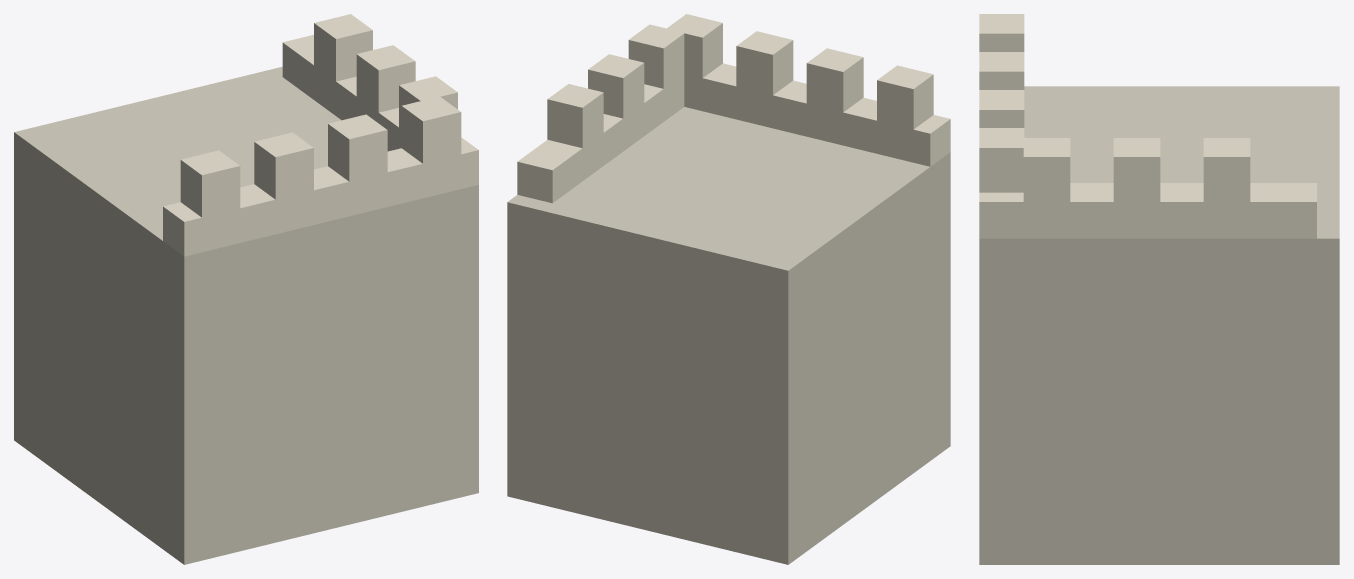
Rendered from curtain-corner.glb.
3 renders of one model, left to right at view 1: azimuth 30°, elevation 25°; view 2: azimuth 150°, elevation 25°; view 3: azimuth 270°, elevation 25°, orthographic. The views are drawn at different scales.
Visible parts, largest first — view 1: curtain-corner; view 2: curtain-corner; view 3: curtain-corner.
Boxes of the visible parts, x1=… form: curtain-corner: x1=14, y1=14, x2=478, y2=564; curtain-corner: x1=507, y1=14, x2=950, y2=564; curtain-corner: x1=979, y1=14, x2=1339, y2=564.
Size of the model in its own units: 4 by 5 by 4.
